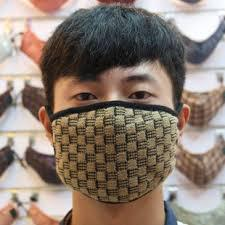OK: (50, 68, 182, 200)
